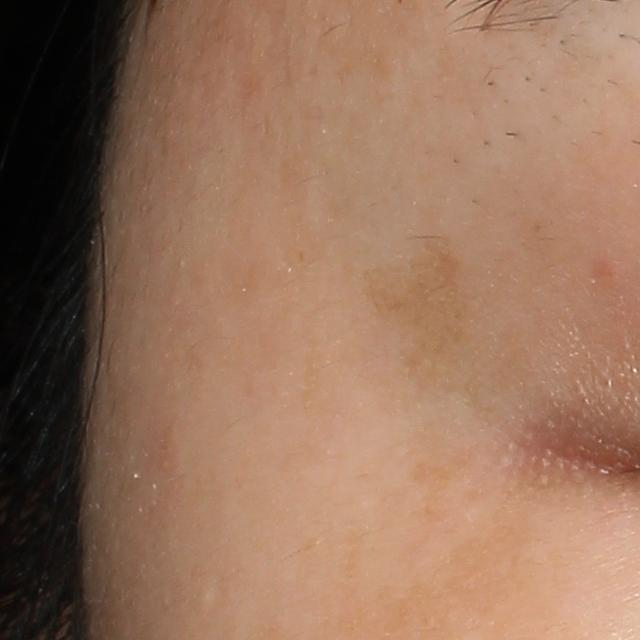melasma: (360, 253, 467, 382)
